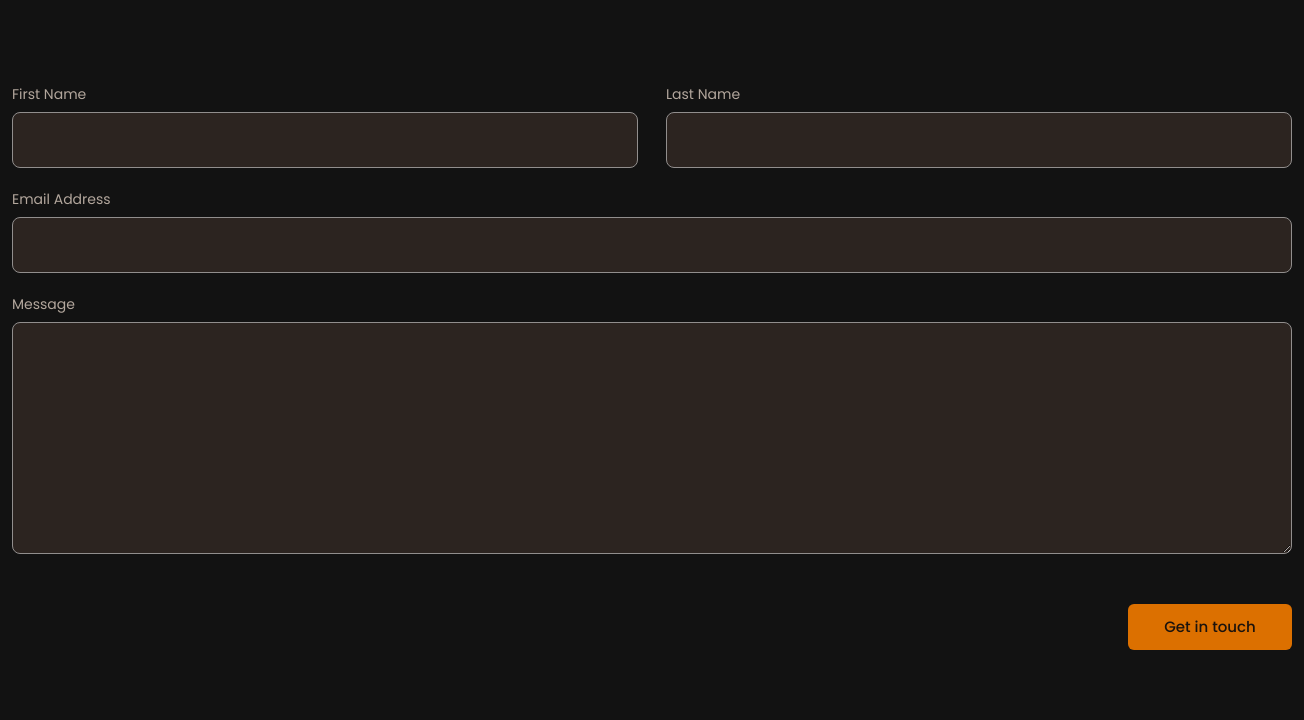
ContactForm › shows rate limiting as a message, not a crash
Type "Ada" into the field labelled "First Name" at (325, 140), box [12, 112, 638, 168]
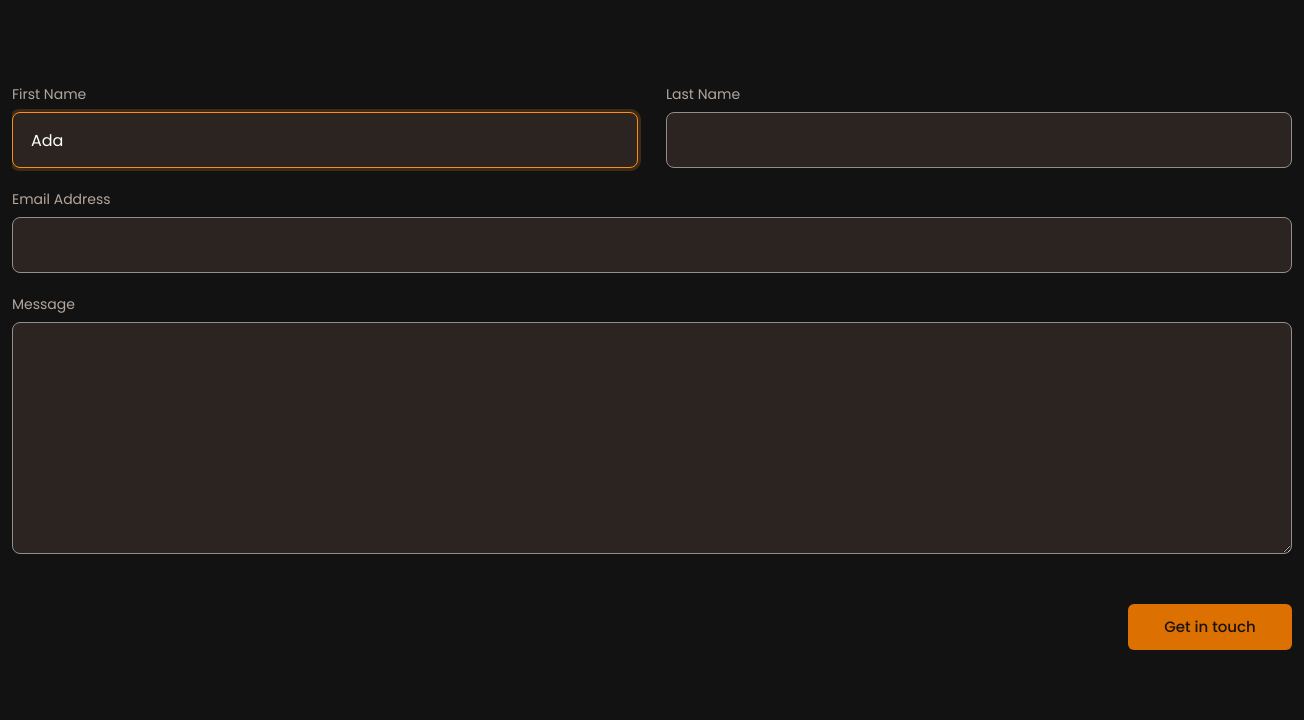
Type "Lovelace" into the field labelled "Last Name" at (979, 140), box [666, 112, 1292, 168]
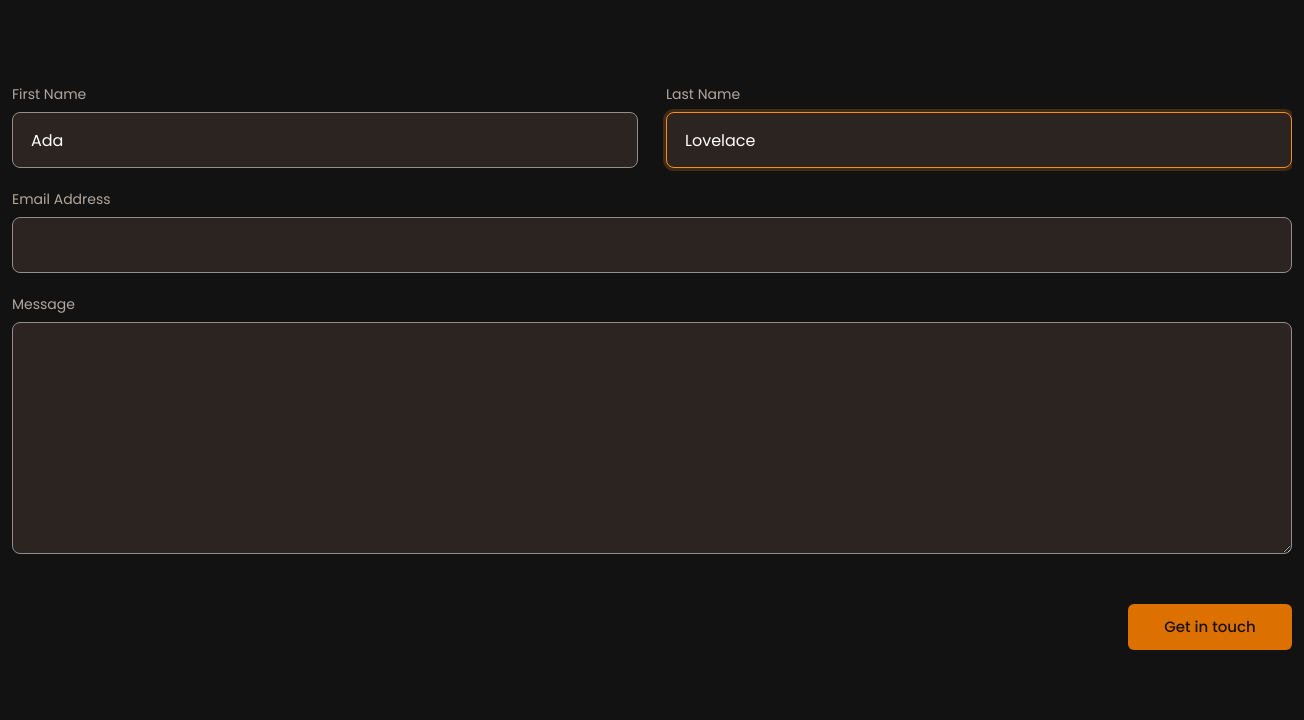
Type "ada@example.com" into the field labelled "Email Address" at (652, 245), box [12, 217, 1292, 273]
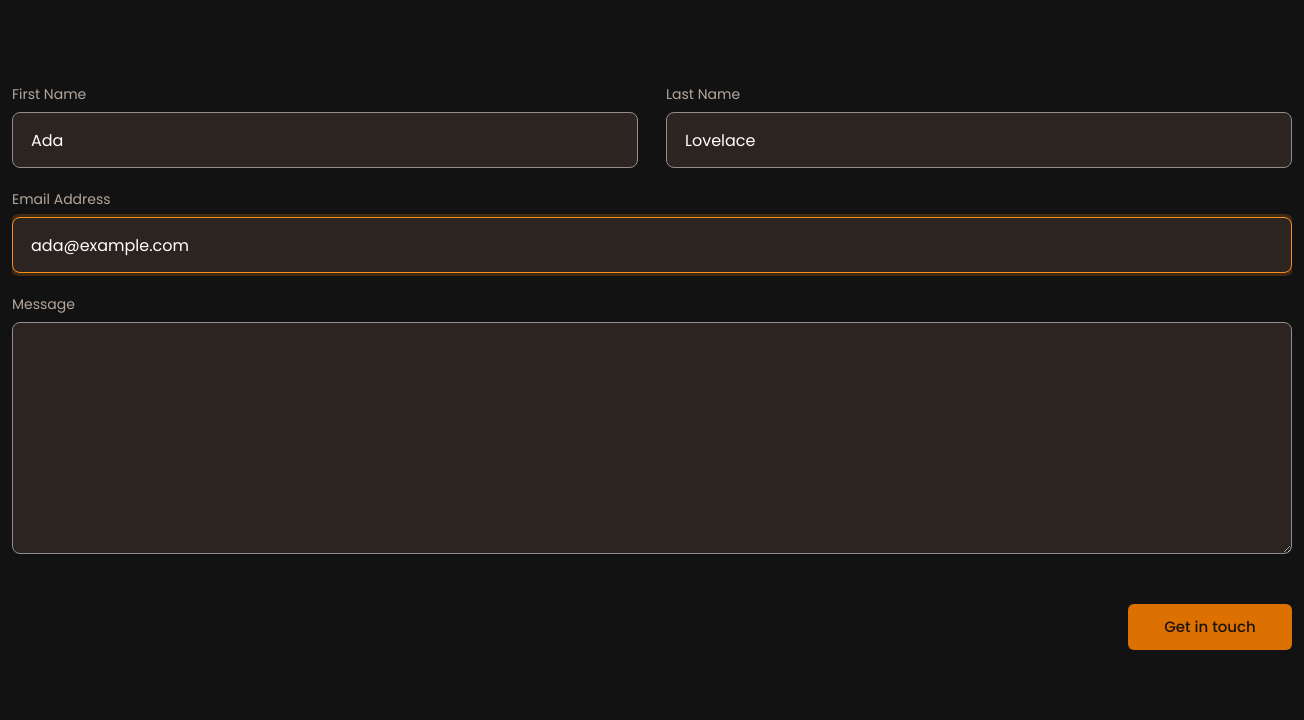
Type "Hello, I would like to talk about a project." into the text box labelled "Message" at (652, 438), box [12, 322, 1292, 554]
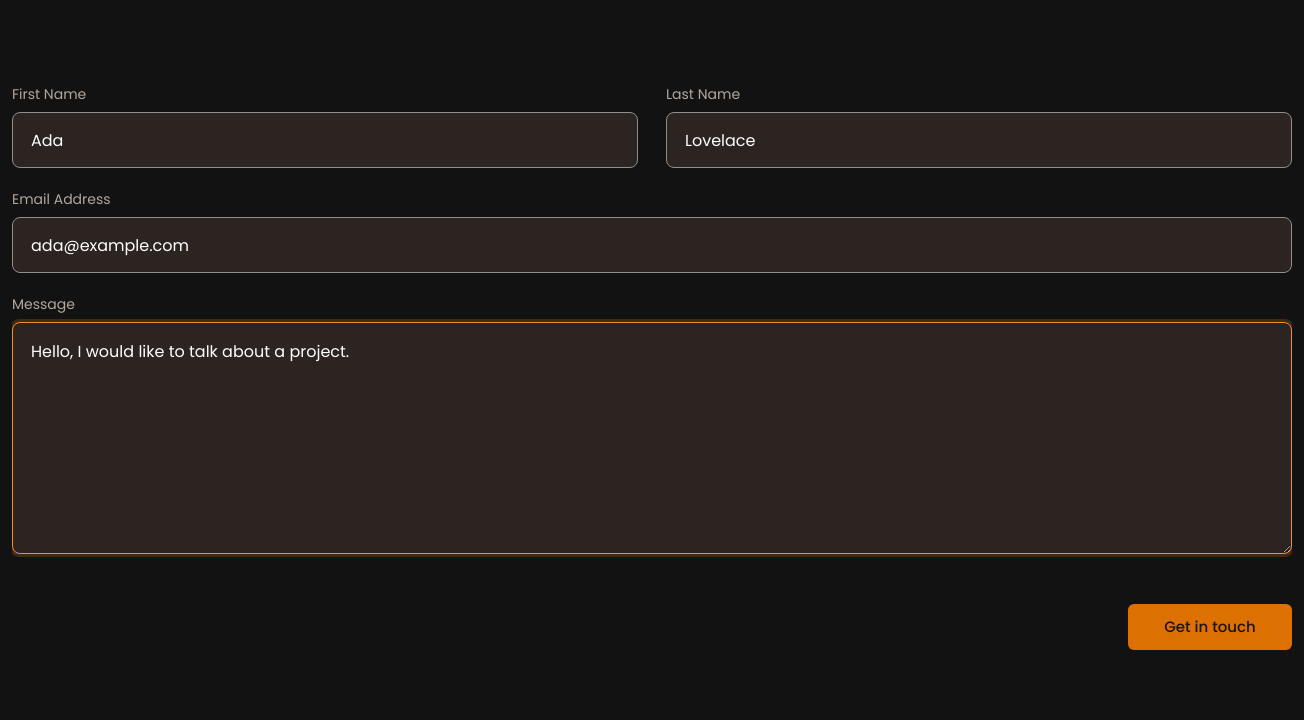
Click the button "Get in touch" at (1210, 627), box [1128, 604, 1292, 650]
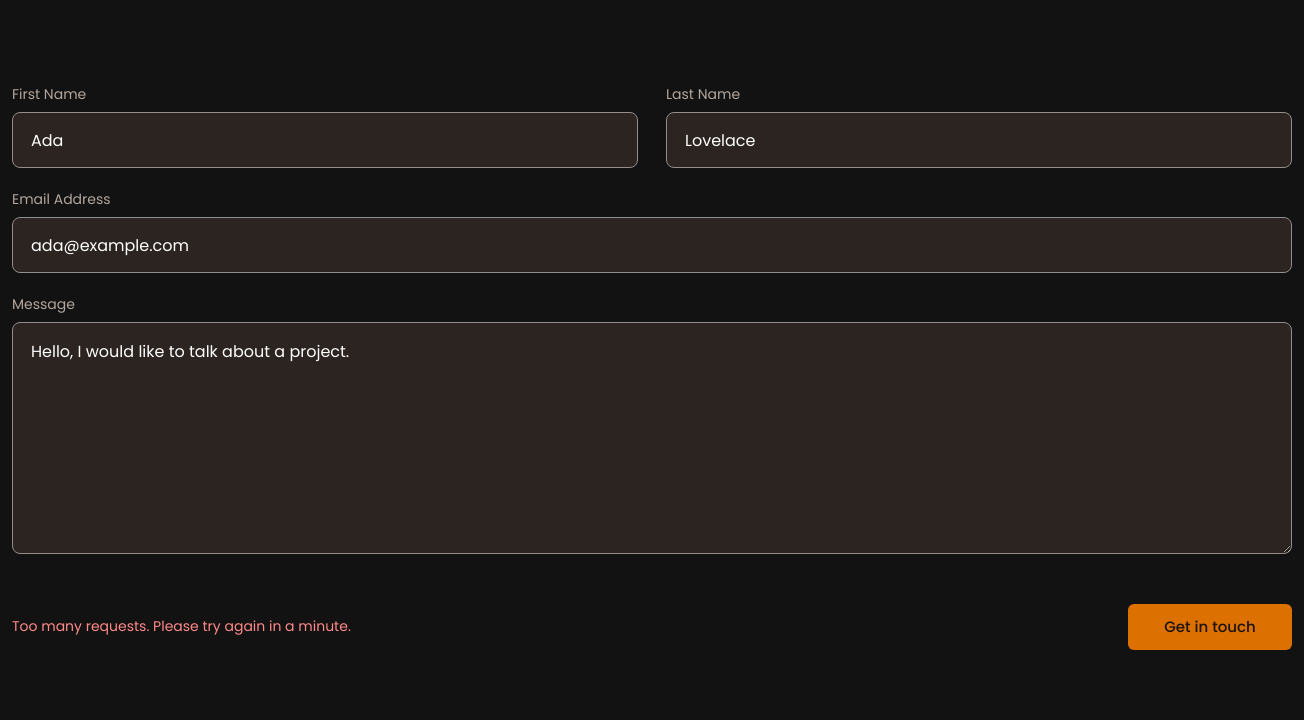
Expected: the message shows "Too many requests", [12, 616, 351, 636]
